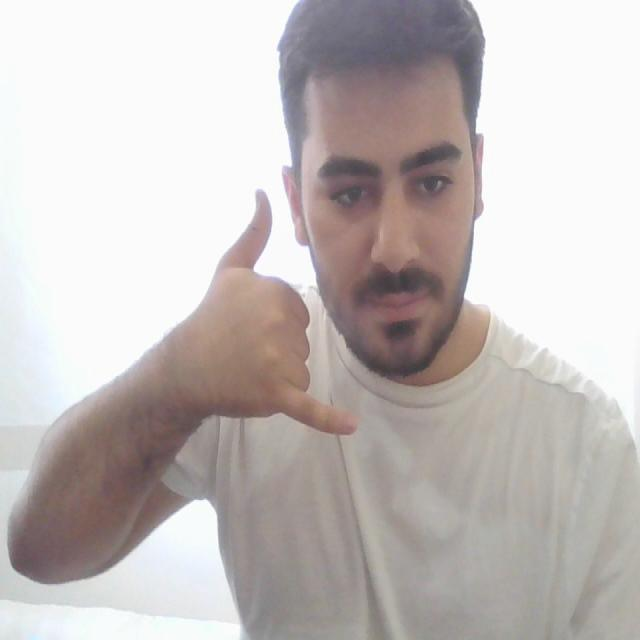Telefon: (222, 172, 361, 440)
